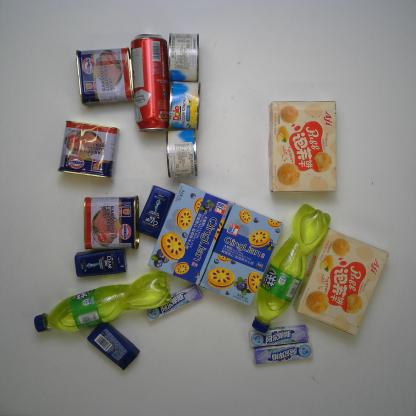Alcohol: (126, 30, 172, 135)
Candy: (142, 280, 206, 326), (249, 340, 317, 368), (247, 322, 310, 349)
Canned Food: (54, 117, 121, 183), (70, 43, 136, 108), (78, 194, 142, 253), (162, 31, 203, 83), (162, 127, 201, 181), (164, 79, 202, 132)
Dessert: (292, 224, 394, 338), (197, 197, 286, 308), (144, 180, 235, 288), (263, 99, 340, 196)
Drink: (248, 200, 333, 334), (29, 268, 175, 338)
Personal Hygiene: (85, 320, 144, 374), (133, 182, 177, 242), (71, 247, 130, 281)
